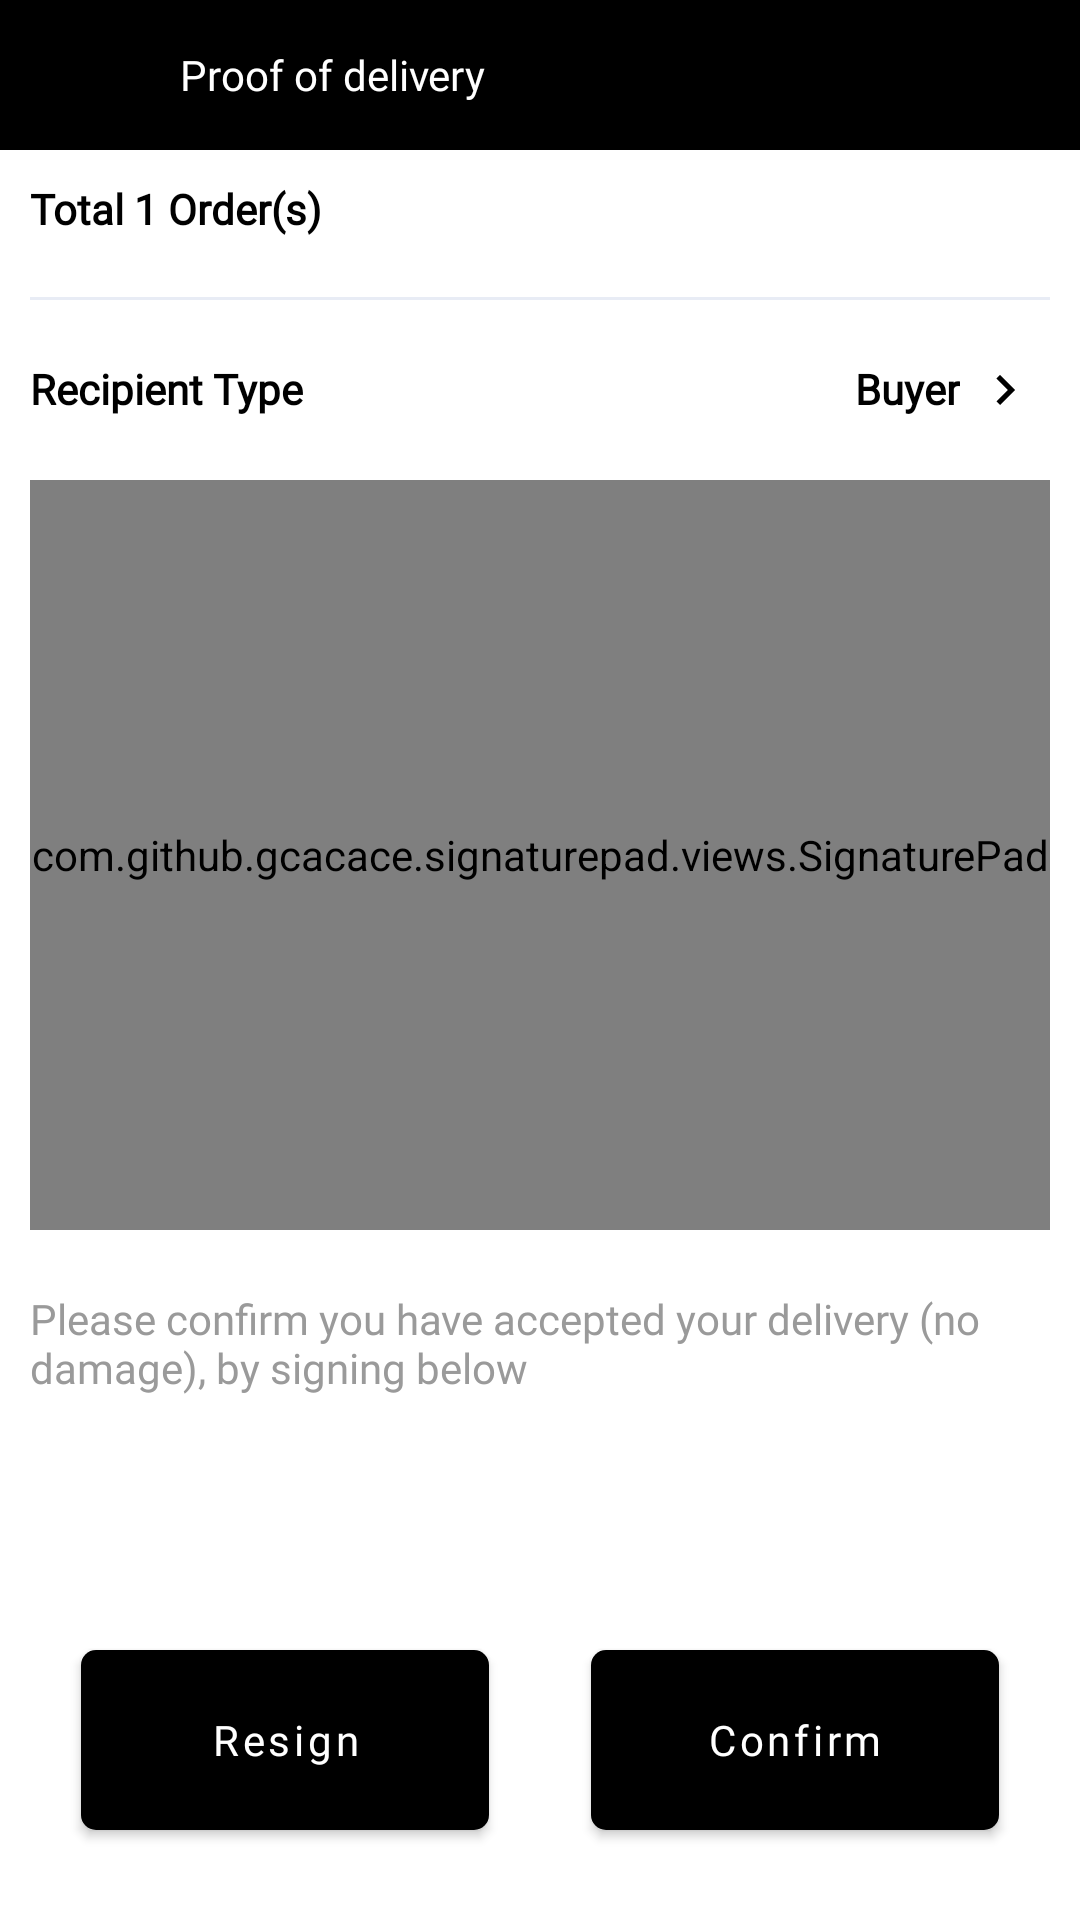

Icons on this 1080 × 1920 Android screen, each with the point to tap as point (x, y):
right arrow: point (1005, 390)
